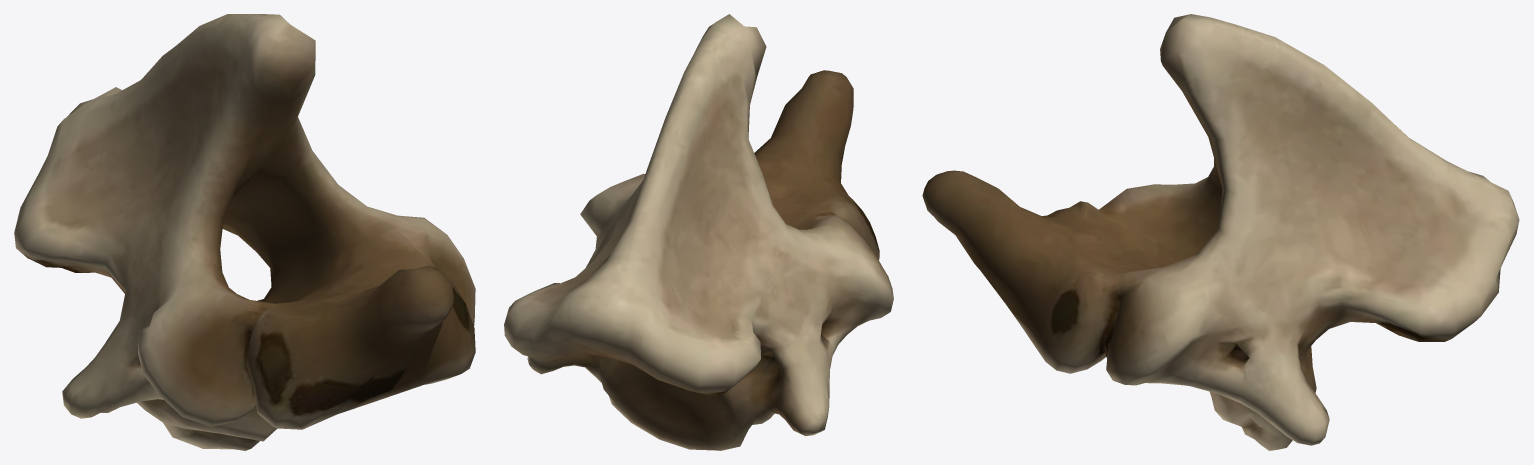
The model's file is C2_Axis.glb.
The picture shows the model from 3 angles, left to right: view 1: azimuth 30°, elevation 25°; view 2: azimuth 150°, elevation 25°; view 3: azimuth 270°, elevation 25°; orthographic projection. The views are drawn at different scales.
Parts seen in each view (by area): view 1: C2_Axis1:Group40209; view 2: C2_Axis1:Group40209; view 3: C2_Axis1:Group40209.
Part boxes in pixels (bbox=[...]): C2_Axis1:Group40209: bbox=[14, 14, 475, 450]; C2_Axis1:Group40209: bbox=[504, 14, 893, 450]; C2_Axis1:Group40209: bbox=[922, 14, 1519, 450].
Size of the model in its own units: 30.72 by 40.29 by 51.43.
1 material, 1 textured.
